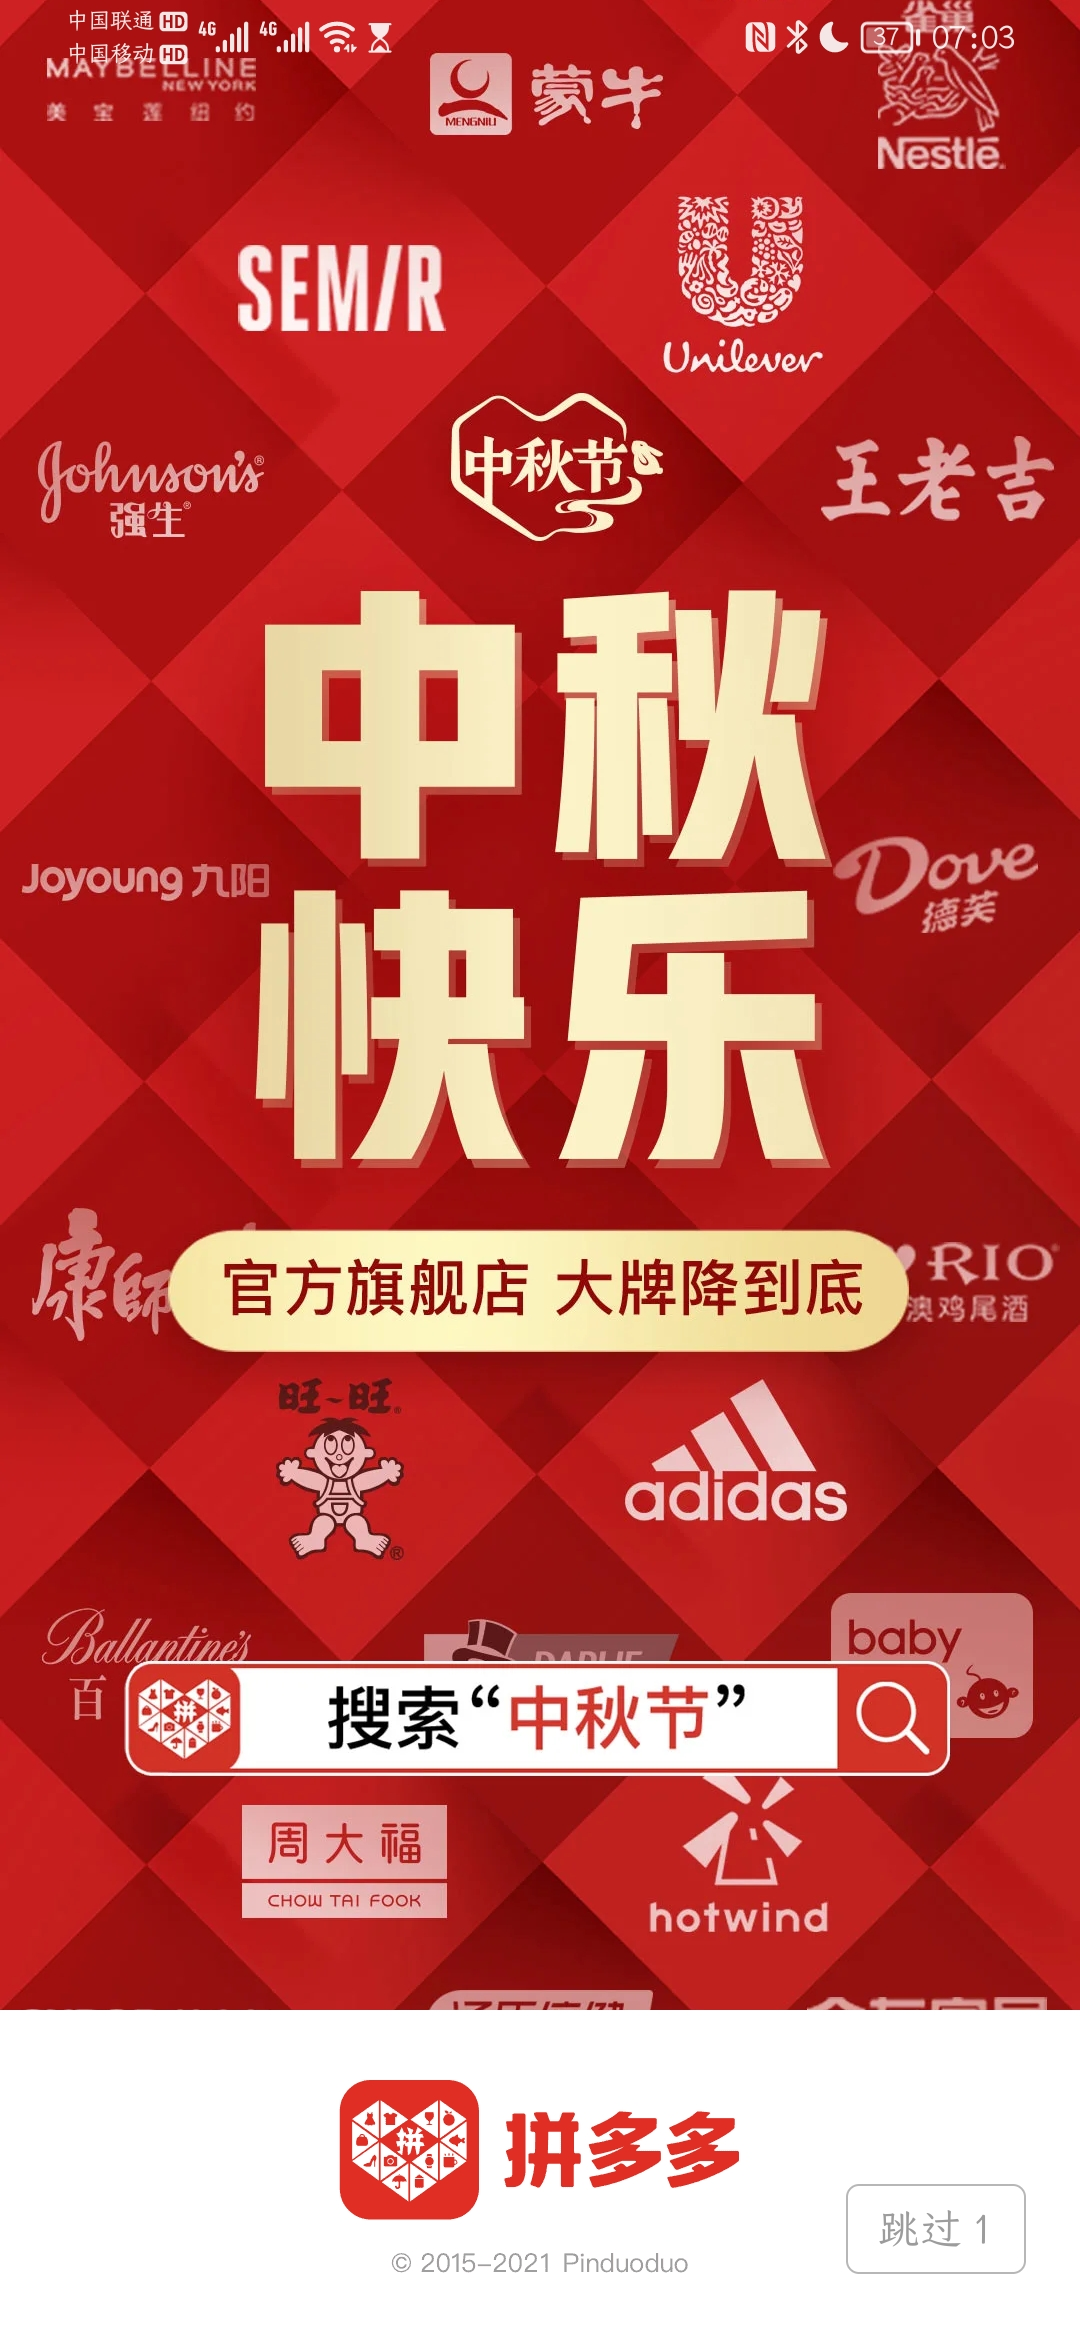skip: (850, 2189, 1020, 2280)
